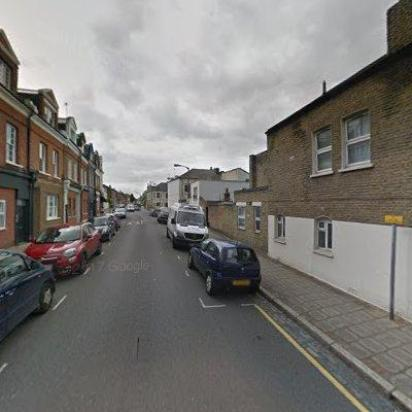moving-light-truck: (126, 203, 134, 213)
stationary-car-onstreet: (0, 246, 56, 346), (21, 224, 103, 280), (186, 238, 262, 298), (85, 216, 116, 242), (156, 208, 170, 224), (105, 212, 119, 228), (113, 207, 127, 219), (149, 206, 161, 217)
stationary-light-truck-onstreet: (166, 204, 209, 252)
